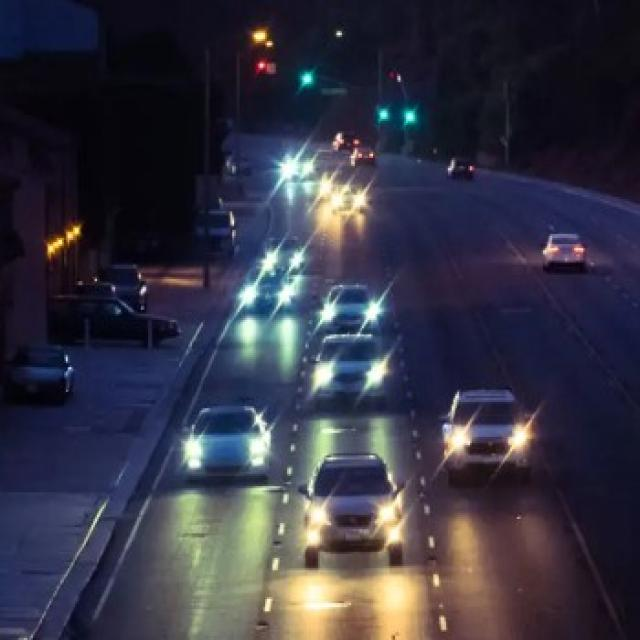car: (301, 449, 406, 572), (439, 385, 537, 488), (181, 402, 275, 486), (313, 330, 387, 408), (321, 282, 380, 336), (241, 267, 296, 317), (540, 233, 588, 273), (260, 233, 304, 273), (277, 152, 312, 184), (330, 186, 366, 217), (349, 144, 377, 170)
